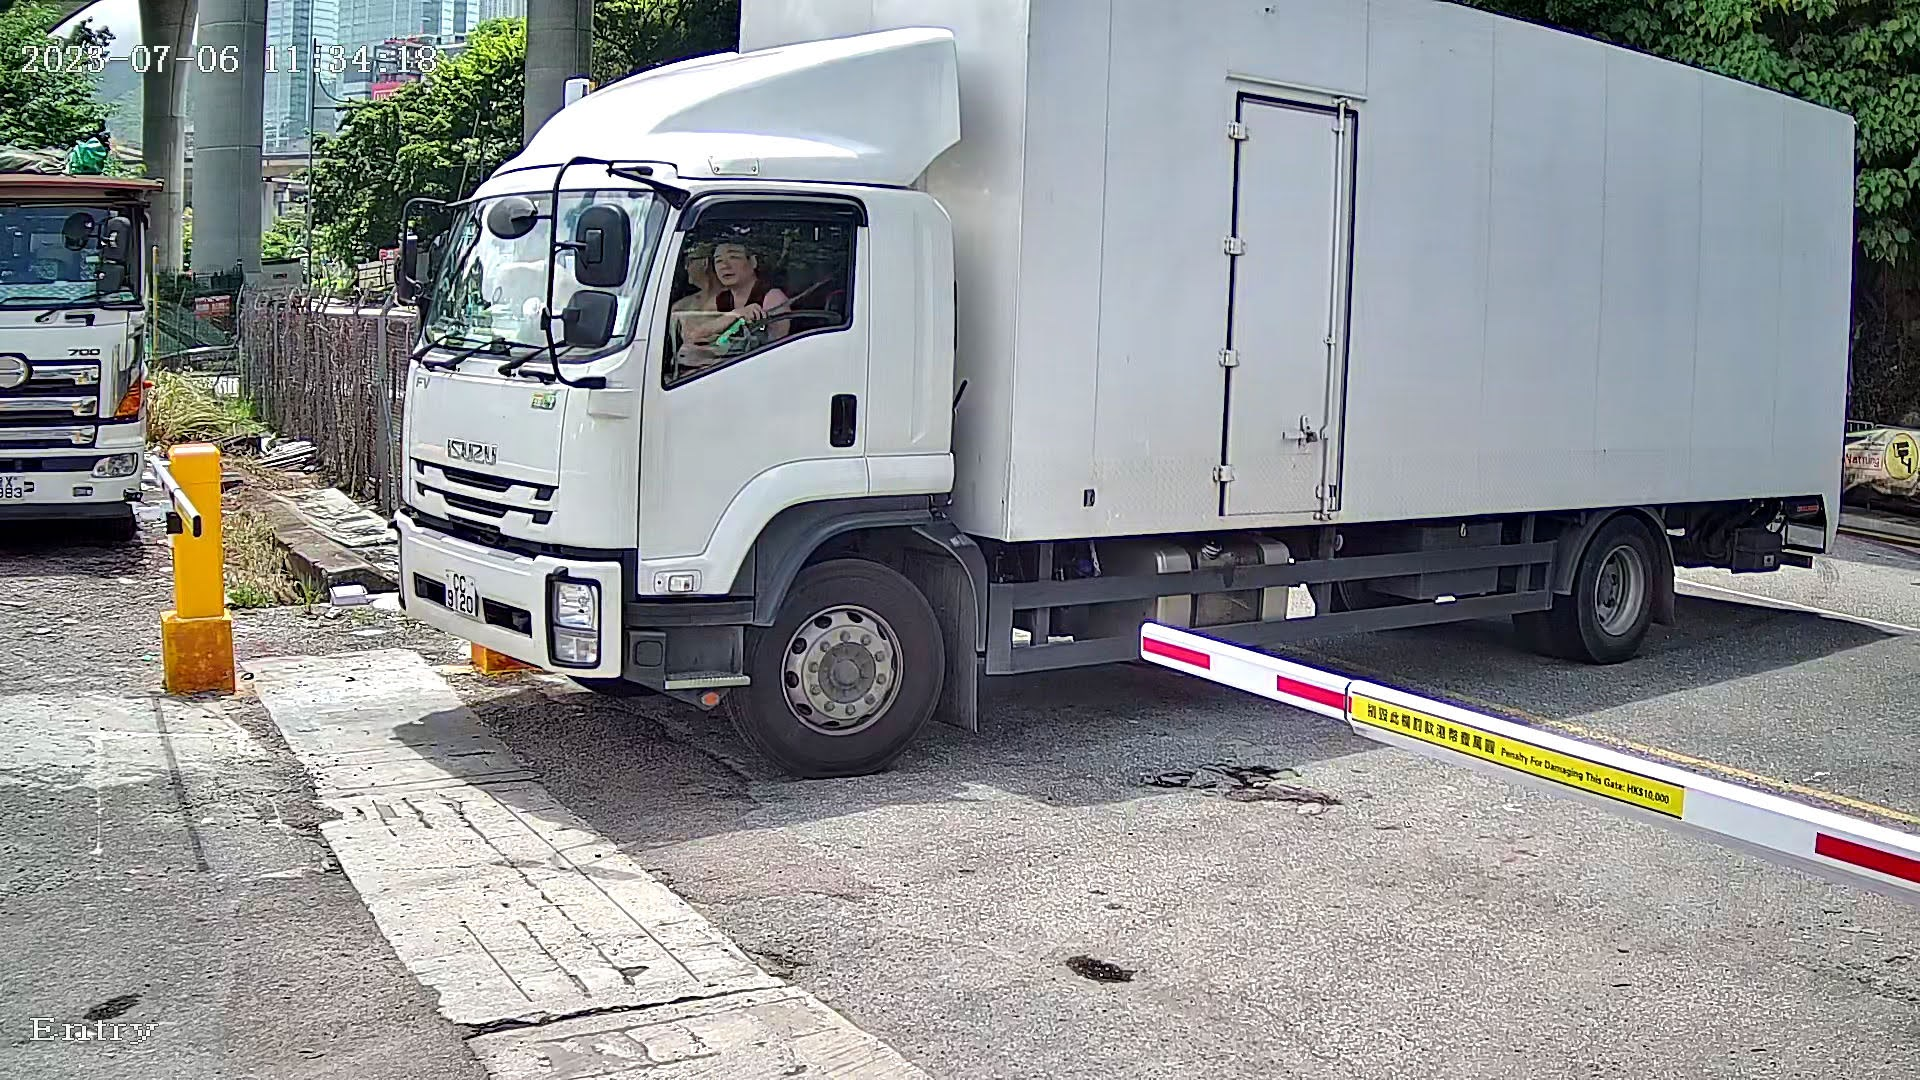truck: (342, 1, 1879, 823)
